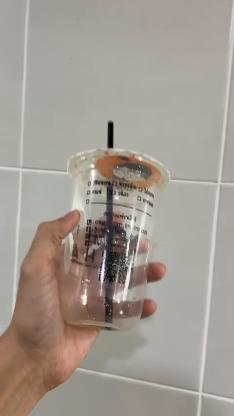Plastic Cup: (62, 150, 171, 333)
